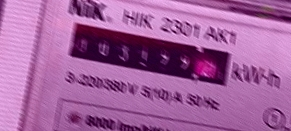0: (73, 35, 88, 55), (96, 38, 109, 58)
1: (138, 42, 149, 62)
3: (117, 44, 127, 63)
6: (199, 65, 210, 81)
9: (177, 54, 189, 73), (158, 48, 168, 67)
screen: (60, 19, 238, 95)
